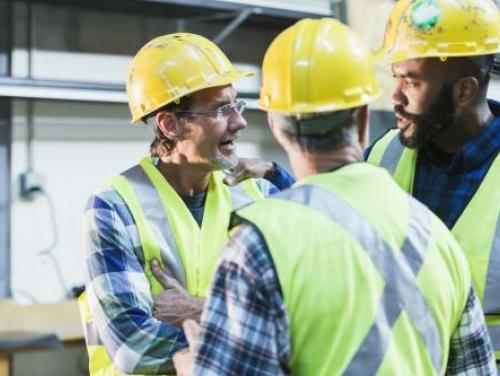helmet: (125, 32, 255, 128), (259, 22, 384, 117), (372, 2, 500, 67)
